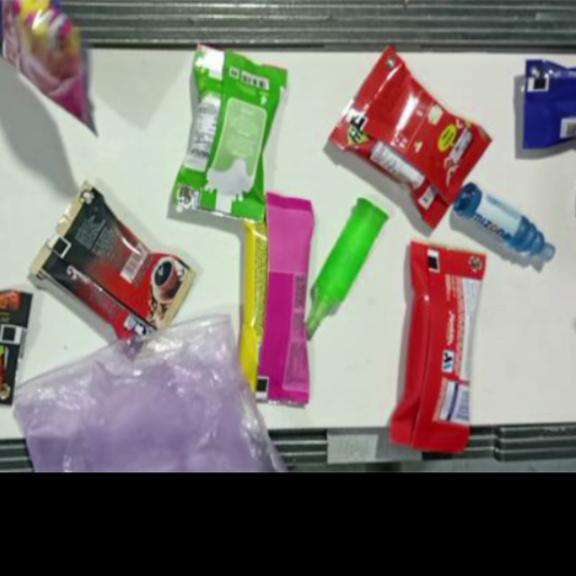Plastik: (14, 312, 288, 501), (329, 44, 493, 230), (30, 180, 198, 355), (389, 240, 487, 454), (172, 43, 288, 222), (234, 190, 314, 402), (0, 0, 101, 136), (296, 198, 388, 338), (452, 181, 557, 262), (523, 58, 576, 150), (0, 288, 32, 403)
